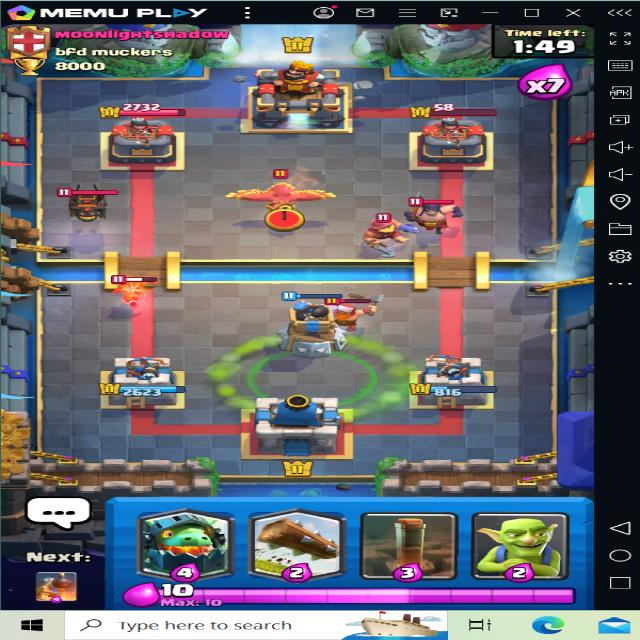executioner: (398, 190, 462, 228)
fisherman: (340, 205, 430, 253)
goblin-curse: (244, 343, 382, 410)
lava-hound: (40, 184, 132, 222)
little-prince: (107, 264, 162, 306)
lumberjack: (324, 288, 378, 325)
phoenix: (219, 168, 330, 227)
